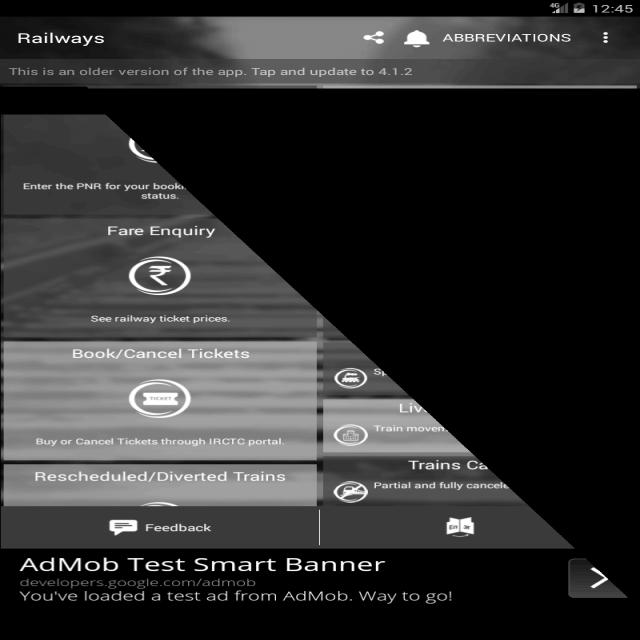ImageButton: (400, 27, 430, 53), (353, 29, 392, 45), (597, 26, 613, 50)
ImageView: (112, 373, 210, 418), (134, 253, 192, 295), (442, 510, 500, 542), (333, 422, 374, 450), (332, 365, 370, 393), (332, 481, 376, 501)
TextView: (28, 553, 456, 609), (4, 65, 418, 79), (21, 176, 210, 202), (26, 434, 293, 450), (26, 470, 292, 486), (100, 222, 218, 244), (56, 348, 258, 360), (83, 312, 240, 326), (110, 515, 222, 533), (440, 30, 574, 44), (9, 30, 109, 46)
